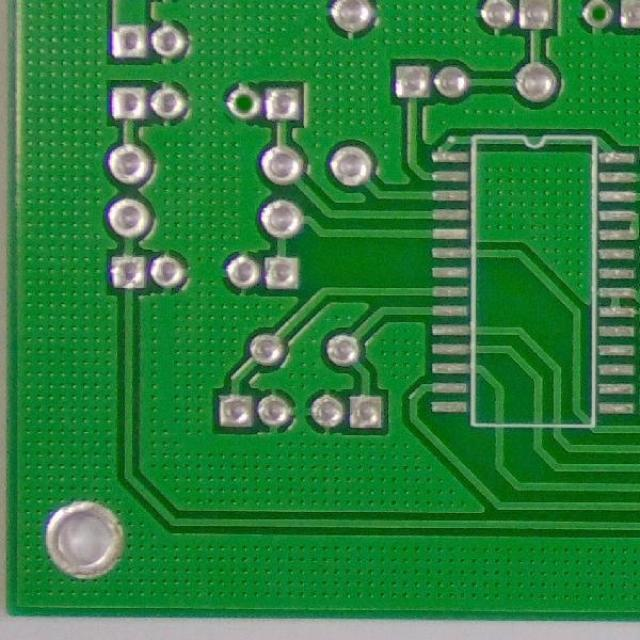Missing_Hole: (224, 86, 261, 120), (579, 0, 615, 29)
